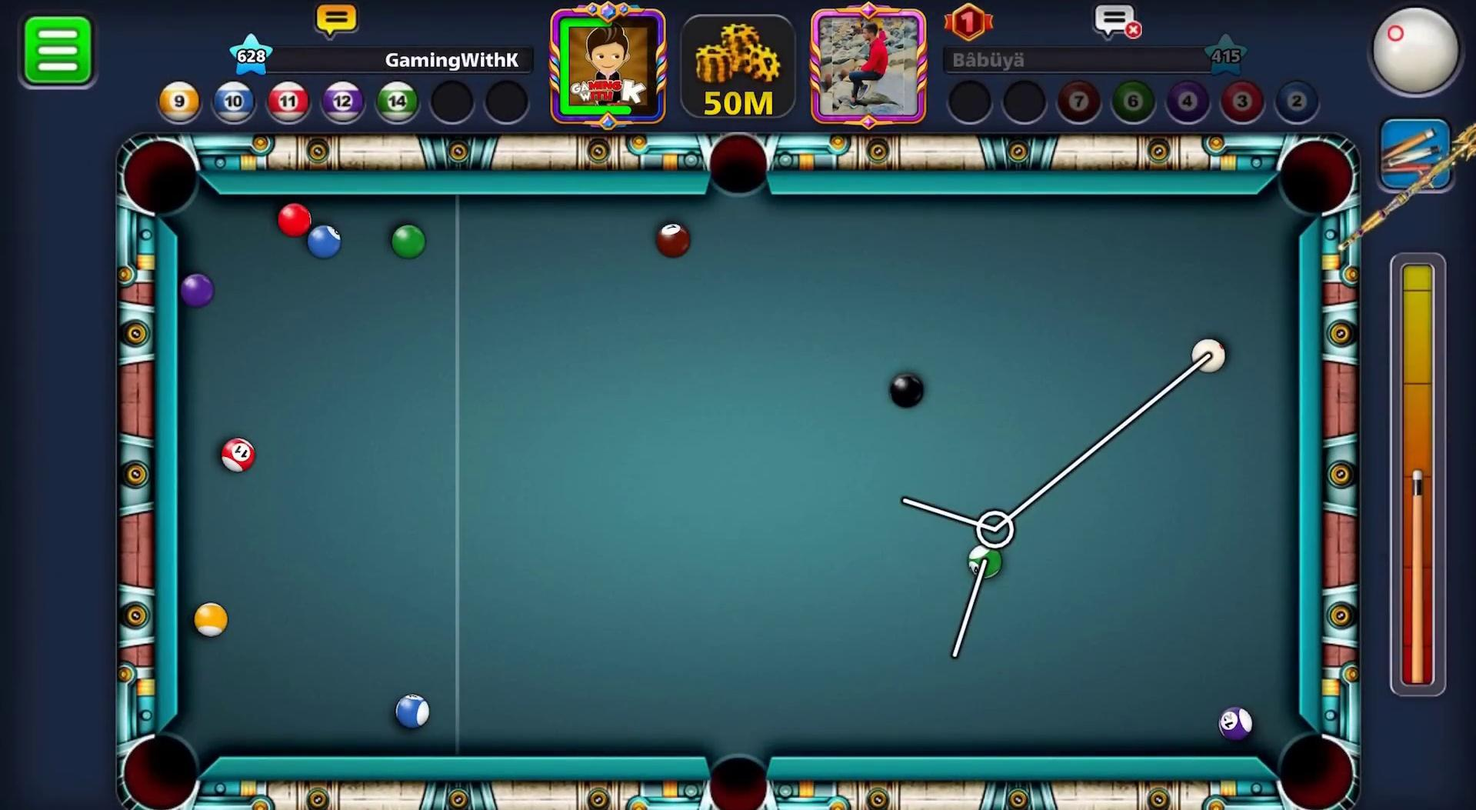Ball: (881, 368, 931, 414), (272, 196, 318, 246), (297, 221, 346, 267), (645, 216, 696, 260), (961, 536, 1005, 586), (177, 265, 217, 313), (1216, 702, 1256, 742), (391, 693, 431, 732), (192, 601, 229, 640), (387, 222, 425, 259), (218, 433, 254, 472)
Force: (1388, 253, 1452, 712)
Guideline: (891, 349, 1214, 666)
Hole: (111, 123, 221, 233), (102, 718, 221, 809), (1264, 125, 1364, 232), (1257, 718, 1365, 809), (692, 122, 786, 215), (691, 739, 783, 809)
Play_Area: (178, 195, 1293, 758)
Spin: (1361, 0, 1475, 112)
White: (1188, 333, 1230, 377)
